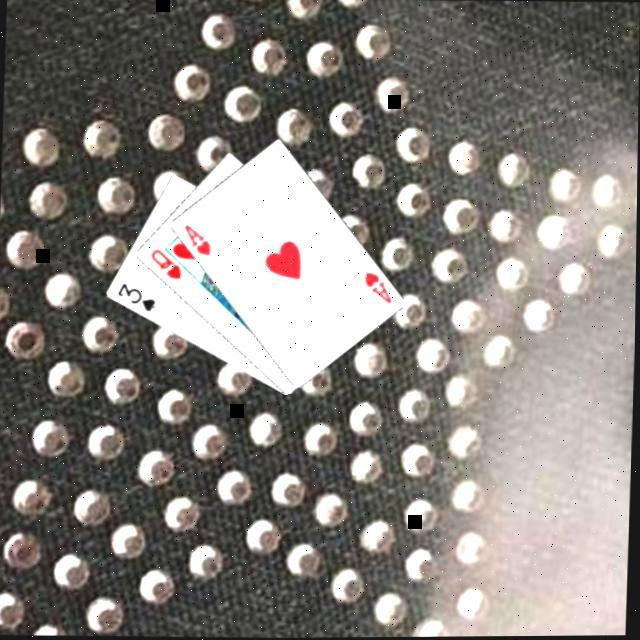3S: (112, 278, 157, 312)
AH: (358, 266, 394, 306), (178, 218, 212, 258)
QH: (144, 243, 183, 280)
